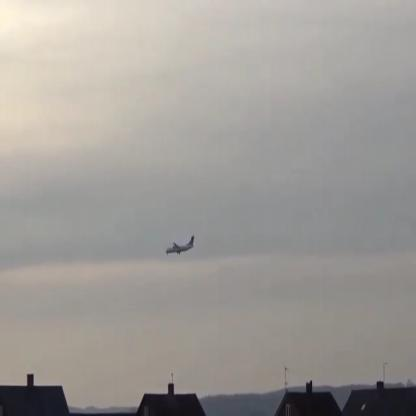CIV_Plane: (164, 235, 195, 258)
